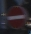No entry: (6, 5, 26, 29)
